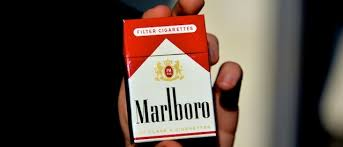marlboro: (135, 19, 208, 143)
